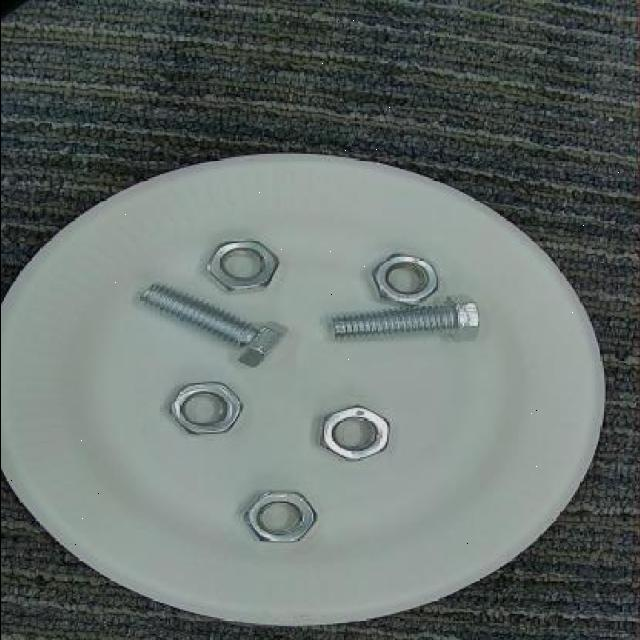Bolt: (131, 279, 294, 371), (326, 291, 480, 345)
Nut: (237, 486, 321, 546), (165, 376, 246, 437), (316, 400, 392, 460), (204, 236, 282, 294), (369, 250, 438, 306)
